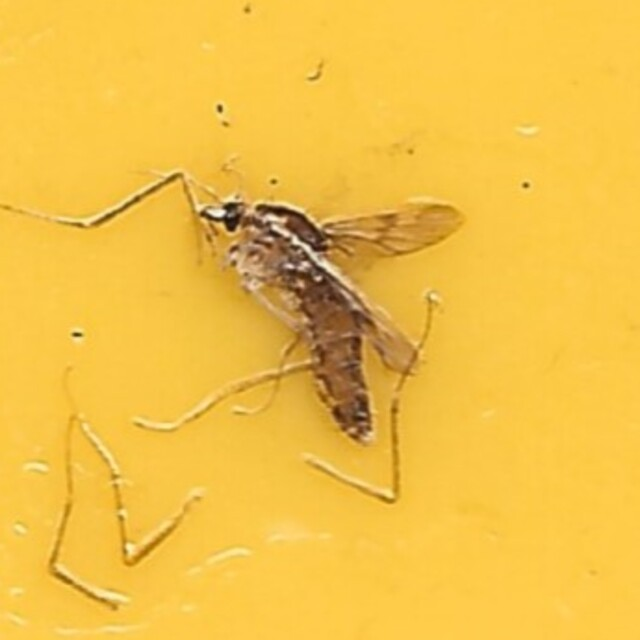Nematocera: (186, 184, 454, 456)
